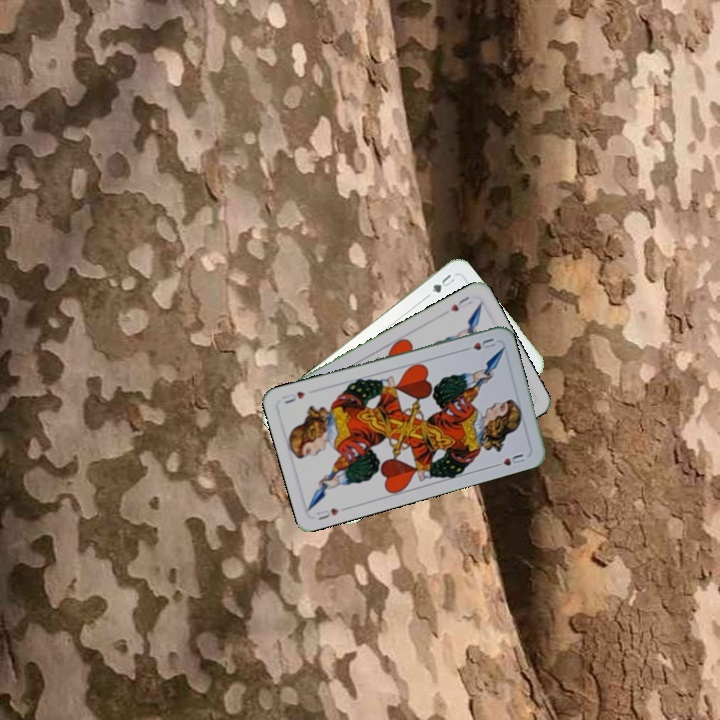GU: (428, 270, 458, 295)
HU: (459, 334, 498, 354), (446, 292, 475, 314), (313, 504, 341, 523)
